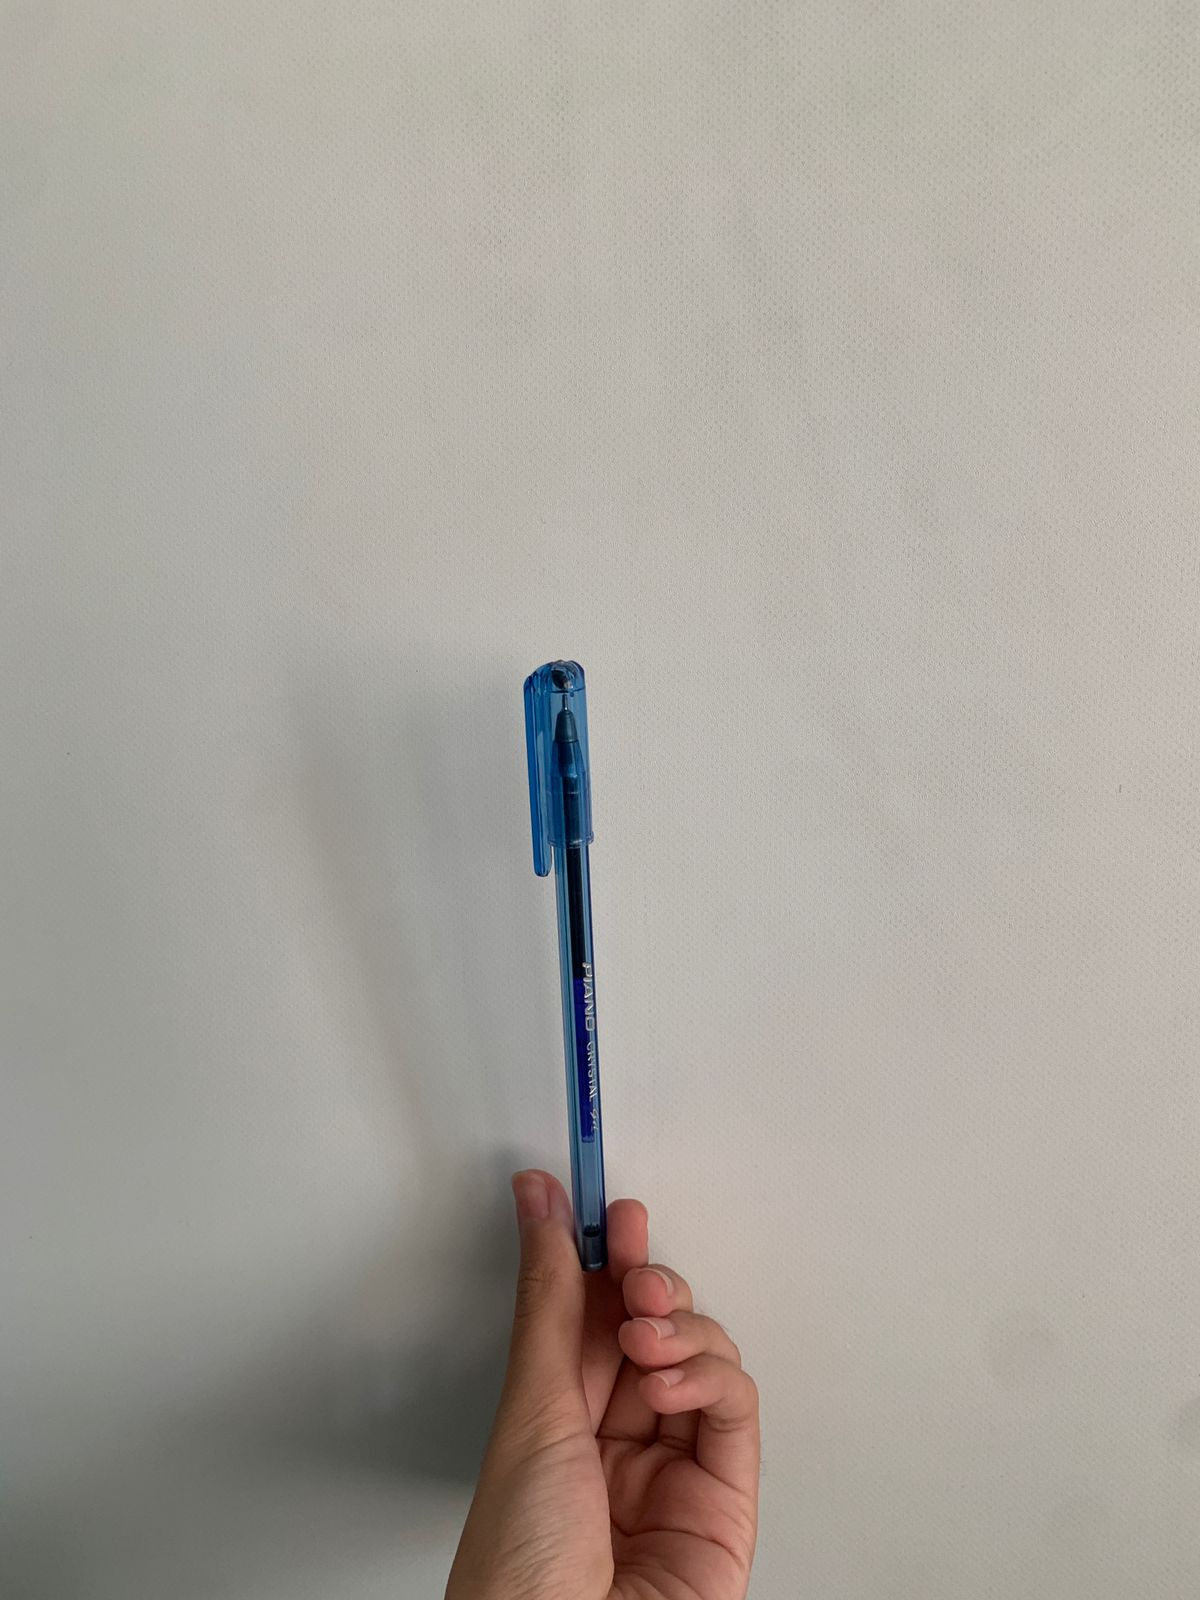pen: (381, 576, 781, 1420)
